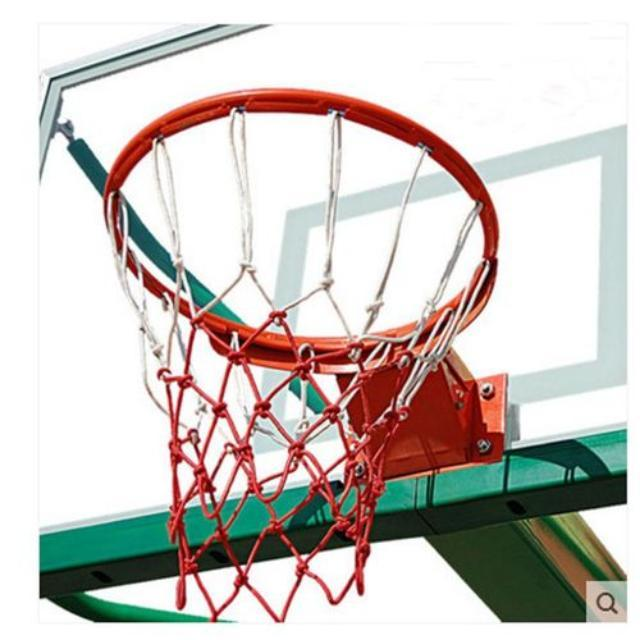rim: (105, 90, 497, 622)
